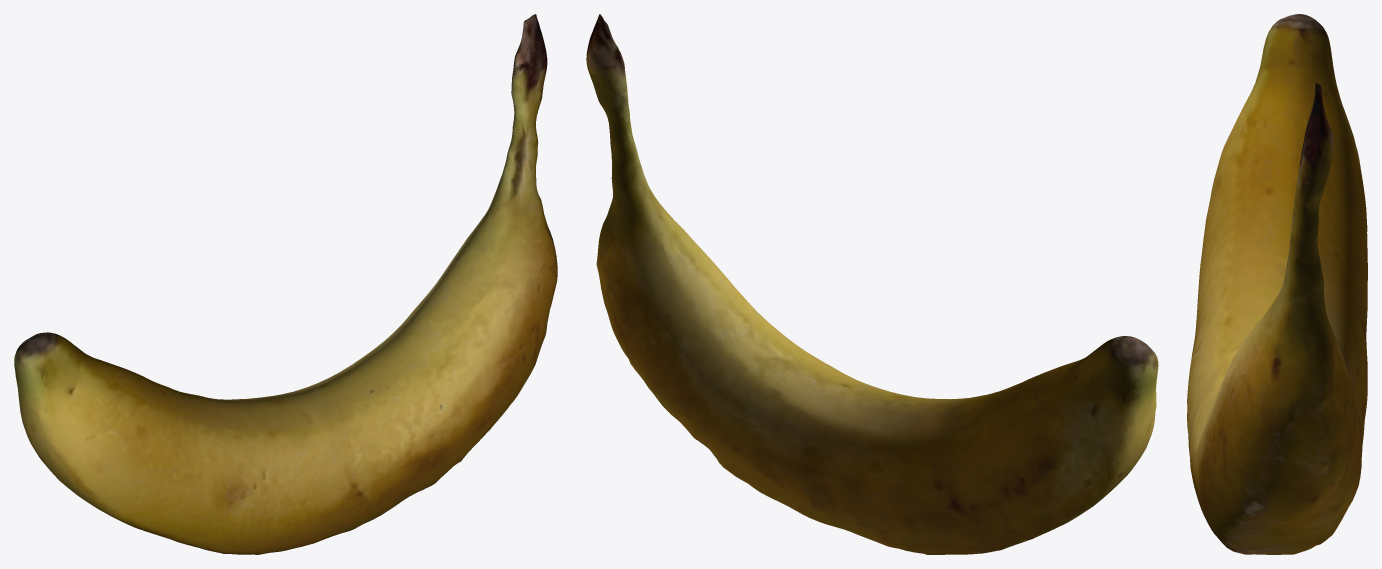
Rendered from RenderCrate-Banana.obj.
3 renders of one model, left to right at view 1: azimuth 30°, elevation 25°; view 2: azimuth 150°, elevation 25°; view 3: azimuth 270°, elevation 25°, orthographic. The views are drawn at different scales.
Visible parts, largest first — view 1: Banana; view 2: Banana; view 3: Banana.
Boxes of the visible parts, bbox=[...] form: Banana: bbox=[14, 14, 557, 554]; Banana: bbox=[586, 14, 1158, 554]; Banana: bbox=[1187, 14, 1367, 554].
Size of the model in its own units: 7.68 by 6.13 by 1.68.
Materials: 1 (1 with a texture image).
